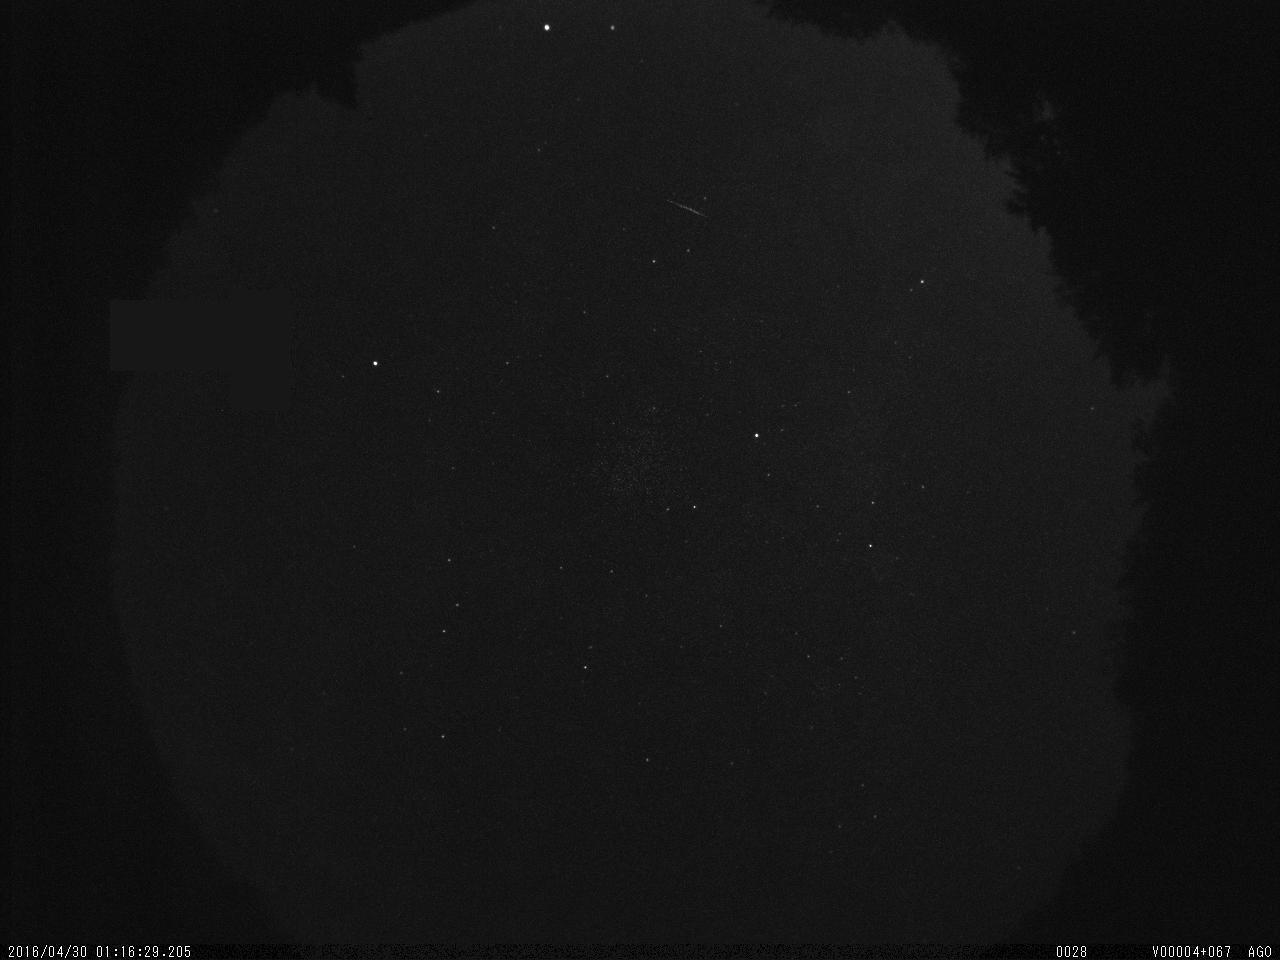meteor: (653, 190, 725, 228)
